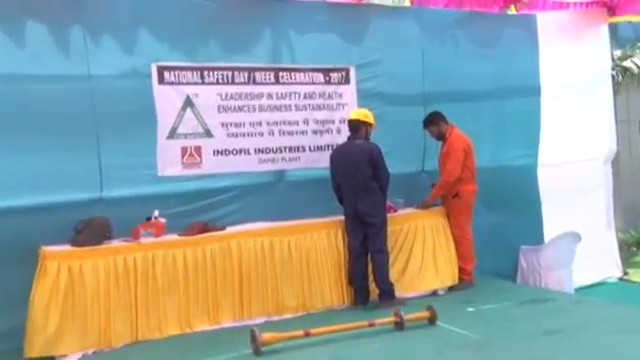helmet: (346, 108, 377, 128)
helmet_off: (422, 109, 455, 142)
helmet_on: (345, 107, 377, 142)
person: (328, 109, 406, 306), (418, 109, 477, 291)
